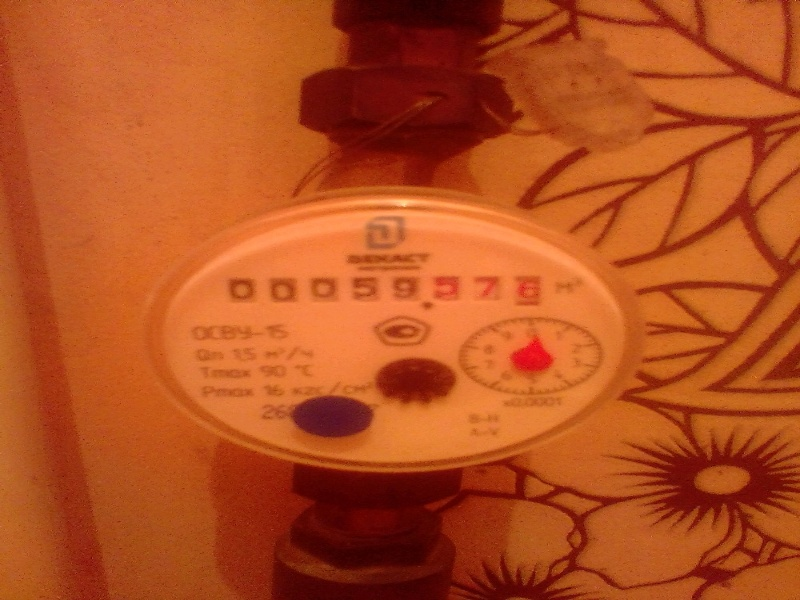meter: (217, 265, 548, 309)
